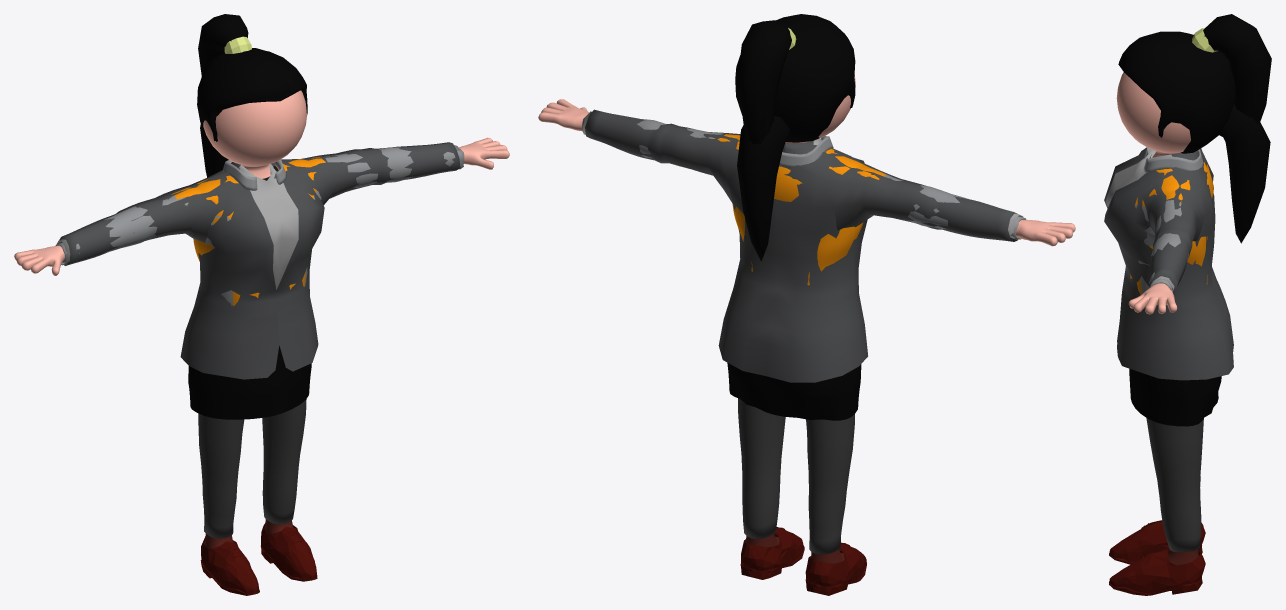
File: Customer_Without Rig.fbx
3 renders of one model, left to right at view 1: azimuth 30°, elevation 25°; view 2: azimuth 150°, elevation 25°; view 3: azimuth 270°, elevation 25°, orthographic. The views are drawn at different scales.
Visible parts, largest first — view 1: Suit_Mesh, Trouser, Female_NEw_body.002, Hair, SKIRT, Office_Shirt, Shoe_Office, Female_tshirt, Wig.005; view 2: Suit_Mesh, Hair, Trouser, SKIRT, Wig.005, Shoe_Office, Female_NEw_body.002, Female_tshirt, Office_Shirt; view 3: Suit_Mesh, Wig.005, Hair, Trouser, Shoe_Office, Female_NEw_body.002, SKIRT, Office_Shirt, Female_tshirt.
Part boxes in pixels (x1=…): Suit_Mesh: x1=56, y1=142, x2=463, y2=379; Trouser: x1=198, y1=399, x2=306, y2=538; Female_NEw_body.002: x1=14, y1=90, x2=509, y2=548; Hair: x1=197, y1=14, x2=304, y2=140; SKIRT: x1=188, y1=345, x2=311, y2=419; Office_Shirt: x1=55, y1=147, x2=464, y2=305; Shoe_Office: x1=200, y1=523, x2=317, y2=595; Female_tshirt: x1=171, y1=157, x2=325, y2=306; Wig.005: x1=200, y1=67, x2=307, y2=177; Suit_Mesh: x1=582, y1=109, x2=1023, y2=382; Hair: x1=737, y1=14, x2=855, y2=143; Trouser: x1=738, y1=398, x2=854, y2=554; SKIRT: x1=727, y1=362, x2=861, y2=420; Wig.005: x1=735, y1=55, x2=850, y2=261; Shoe_Office: x1=740, y1=527, x2=866, y2=595; Female_NEw_body.002: x1=538, y1=75, x2=1075, y2=585; Female_tshirt: x1=711, y1=134, x2=886, y2=285; Office_Shirt: x1=582, y1=114, x2=1025, y2=238; Suit_Mesh: x1=1104, y1=147, x2=1233, y2=380; Wig.005: x1=1118, y1=53, x2=1270, y2=243; Hair: x1=1119, y1=14, x2=1271, y2=135; Trouser: x1=1146, y1=418, x2=1203, y2=552; Shoe_Office: x1=1109, y1=520, x2=1205, y2=595; Female_NEw_body.002: x1=1116, y1=72, x2=1198, y2=590; SKIRT: x1=1129, y1=368, x2=1221, y2=426; Office_Shirt: x1=1134, y1=147, x2=1203, y2=294; Female_tshirt: x1=1130, y1=155, x2=1213, y2=294.
Bounding box in the file's own units: 322 × 339 × 92.43.
